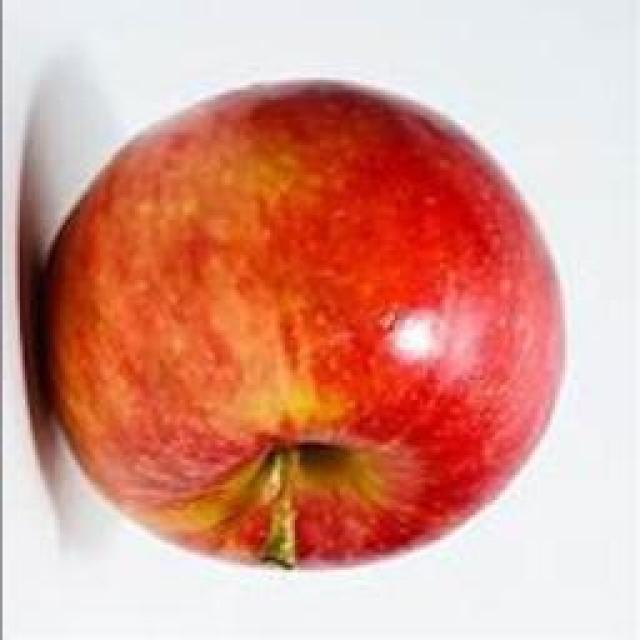Apple: (45, 82, 562, 566)
